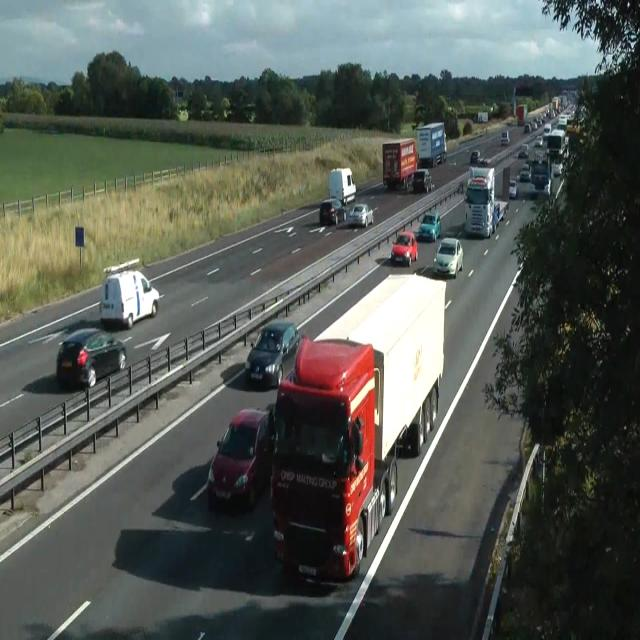bus: (206, 405, 274, 512), (56, 327, 126, 390), (244, 318, 300, 388), (433, 236, 463, 278), (390, 230, 418, 266), (415, 212, 441, 242), (319, 197, 345, 226), (346, 202, 374, 228), (408, 168, 434, 193), (551, 160, 563, 177), (519, 168, 531, 181), (509, 179, 517, 198), (500, 131, 510, 145), (470, 150, 480, 164), (518, 144, 528, 158), (533, 136, 543, 147), (543, 123, 551, 135), (524, 124, 532, 134)
car: (464, 165, 508, 238)
jeep: (99, 267, 159, 329)
minibus: (270, 272, 446, 582), (382, 138, 418, 191), (411, 121, 447, 167), (328, 167, 356, 205), (515, 104, 527, 125), (476, 112, 488, 123)
